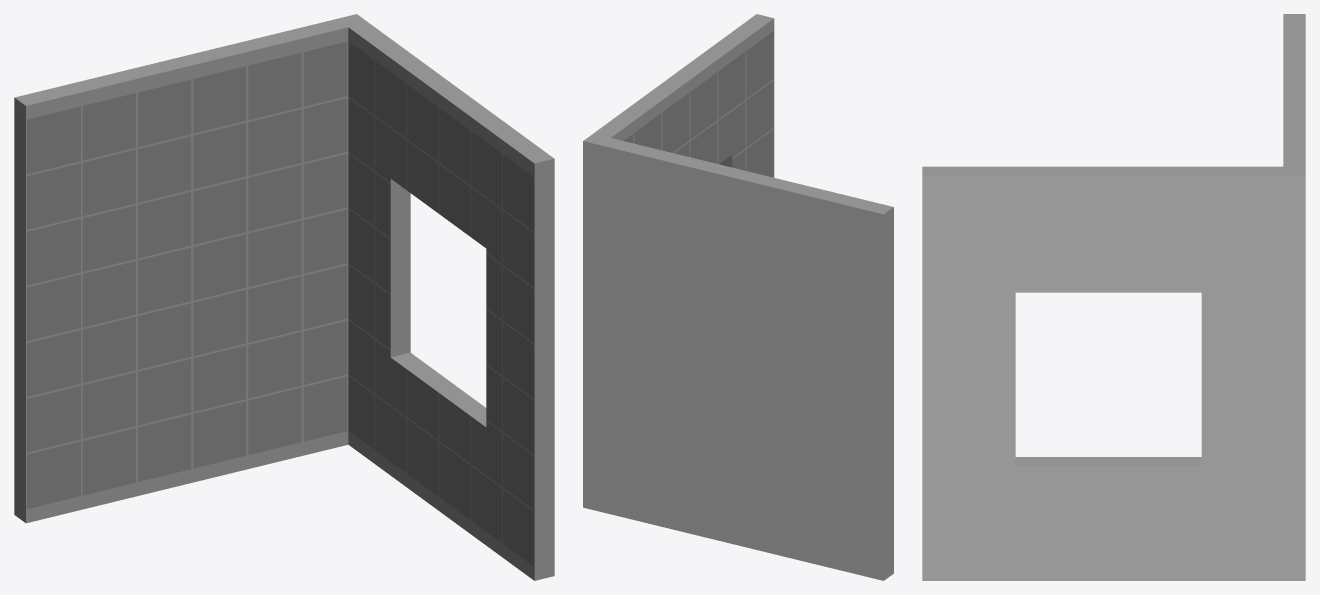
The model's file is Wall1_C7_11.fbx.
3 renders of one model, left to right at view 1: azimuth 30°, elevation 25°; view 2: azimuth 150°, elevation 25°; view 3: azimuth 270°, elevation 25°, orthographic. The views are drawn at different scales.
Parts seen in each view (by area): view 1: Wall1_C7_11; view 2: Wall1_C7_11; view 3: Wall1_C7_11.
Part boxes in pixels (x1,y1,x2,y2): Wall1_C7_11: [14, 14, 554, 580]; Wall1_C7_11: [583, 14, 893, 580]; Wall1_C7_11: [922, 14, 1305, 580].
Size of the model in its own units: 258 by 300 by 258.
